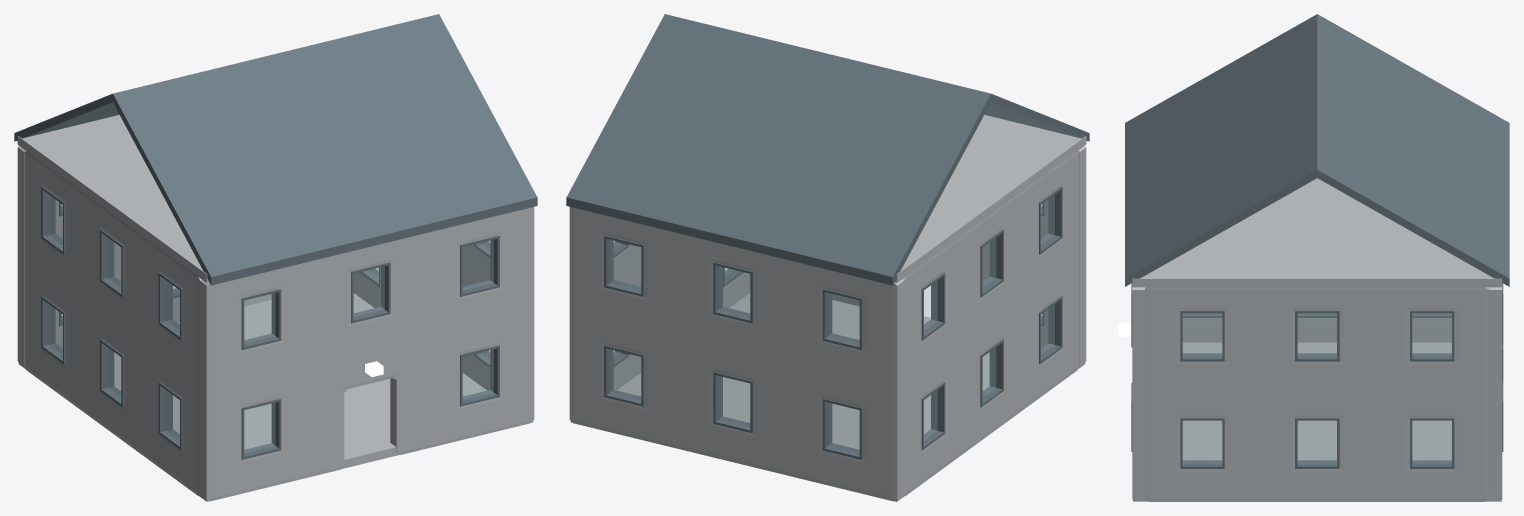
The model's file is house_2_lod0.glb.
3 views of the same model, side by side, from view 1: azimuth 30°, elevation 25°; view 2: azimuth 150°, elevation 25°; view 3: azimuth 270°, elevation 25° (orthographic). The views are drawn at different scales.
Visible parts, largest first — view 1: Roof shell baked, Wall_0 baked, Wall_3 baked, Ceiling baked, Floor baked, Wall_1 baked, Wall_2 baked, Glazing baked, Glazing.002 baked, Glazing.003 baked, Glazing.001 baked, Glazing.004 baked (+7 smaller); view 2: Roof shell baked, Wall_1 baked, Wall_3 baked, Ceiling baked, Floor baked, Wall_0 baked, Wall_2 baked, Glazing.007 baked, Glazing.010 baked, Glazing.006 baked, Glazing.005 baked, Glazing.009 baked (+9 smaller); view 3: Roof shell baked, Wall_2 baked, Ceiling baked, Floor baked, Wall_3 baked, Wall_1 baked, Wall_0 baked, Glazing.013 baked, Glazing.016 baked, Glazing.011 baked, Glazing.012 baked, Glazing.014 baked (+1 smaller).
Boxes of the visible parts, x1=… form: Roof shell baked: x1=14, y1=14, x2=537, y2=285; Wall_0 baked: x1=200, y1=207, x2=534, y2=501; Wall_3 baked: x1=24, y1=151, x2=201, y2=495; Ceiling baked: x1=17, y1=115, x2=208, y2=282; Floor baked: x1=18, y1=293, x2=533, y2=501; Wall_1 baked: x1=17, y1=146, x2=271, y2=365; Wall_2 baked: x1=353, y1=244, x2=490, y2=390; Glazing baked: x1=244, y1=403, x2=275, y2=452; Glazing.002 baked: x1=244, y1=293, x2=275, y2=343; Glazing.003 baked: x1=354, y1=266, x2=384, y2=316; Glazing.001 baked: x1=463, y1=349, x2=493, y2=399; Glazing.004 baked: x1=463, y1=240, x2=493, y2=289; Roof shell baked: x1=566, y1=14, x2=1089, y2=285; Wall_1 baked: x1=569, y1=207, x2=903, y2=501; Wall_3 baked: x1=902, y1=151, x2=1079, y2=495; Ceiling baked: x1=895, y1=115, x2=1086, y2=282; Floor baked: x1=570, y1=293, x2=1085, y2=501; Wall_0 baked: x1=832, y1=146, x2=1086, y2=365; Wall_2 baked: x1=613, y1=244, x2=750, y2=390; Glazing.007 baked: x1=828, y1=403, x2=859, y2=452; Glazing.010 baked: x1=828, y1=293, x2=859, y2=343; Glazing.006 baked: x1=719, y1=376, x2=749, y2=426; Glazing.005 baked: x1=610, y1=349, x2=640, y2=399; Glazing.009 baked: x1=719, y1=266, x2=749, y2=316; Roof shell baked: x1=1125, y1=14, x2=1509, y2=286; Wall_2 baked: x1=1145, y1=287, x2=1489, y2=501; Ceiling baked: x1=1132, y1=178, x2=1502, y2=287; Floor baked: x1=1133, y1=342, x2=1501, y2=501; Wall_3 baked: x1=1182, y1=318, x2=1451, y2=342; Wall_1 baked: x1=1489, y1=287, x2=1502, y2=499; Wall_0 baked: x1=1132, y1=287, x2=1145, y2=499; Glazing.013 baked: x1=1412, y1=421, x2=1451, y2=463; Glazing.016 baked: x1=1412, y1=313, x2=1451, y2=355; Glazing.011 baked: x1=1183, y1=421, x2=1221, y2=463; Glazing.012 baked: x1=1298, y1=421, x2=1336, y2=463; Glazing.014 baked: x1=1183, y1=313, x2=1221, y2=355.
Bounding box in the file's own units: 10.05 × 9.9 × 10.58.
